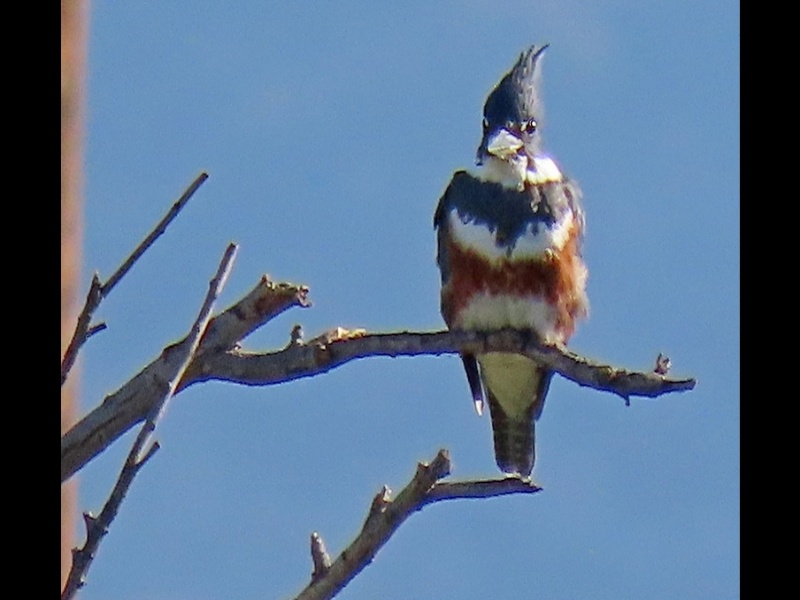kingfisher: (429, 40, 589, 487)
